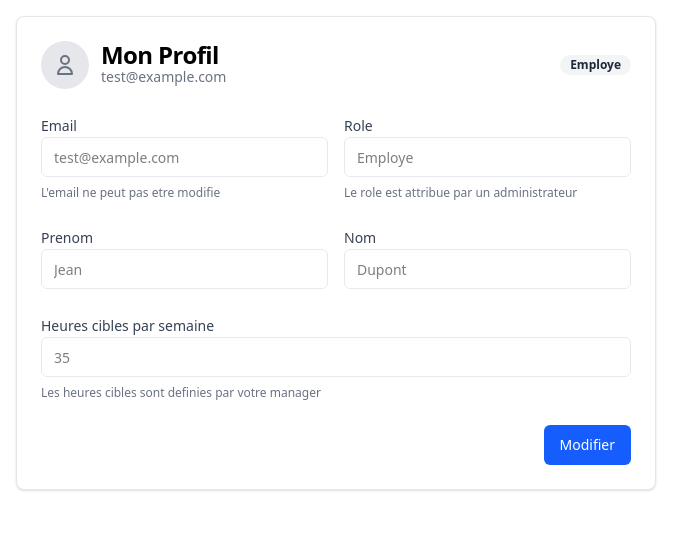
Test case: ProfilePage › Validation - AC4 › shows error when last name is empty
The image size is (673, 536).
Expected: the heading "Mon Profil" is shown, [101,43,226,67]
Click the button "Modifier" at [587, 445], box [544,425,631,465]
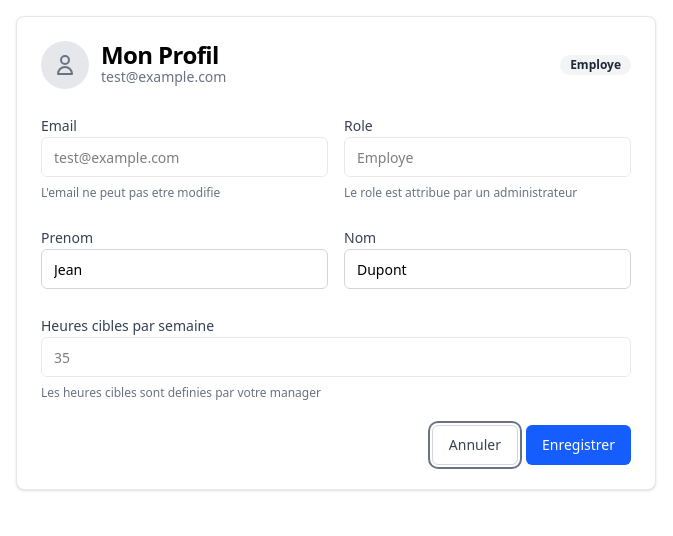
Clear the field labelled "Nom" at [488, 269], box [344,249,631,289]
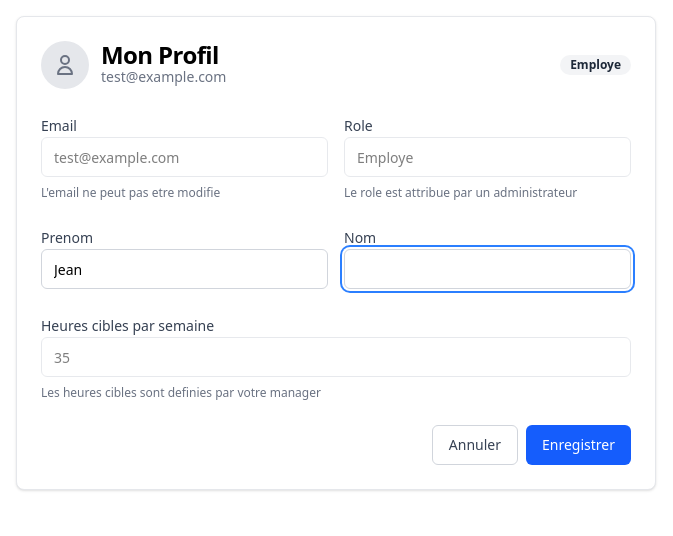
Click the button "Enregistrer" at [578, 445], box [526,425,631,465]
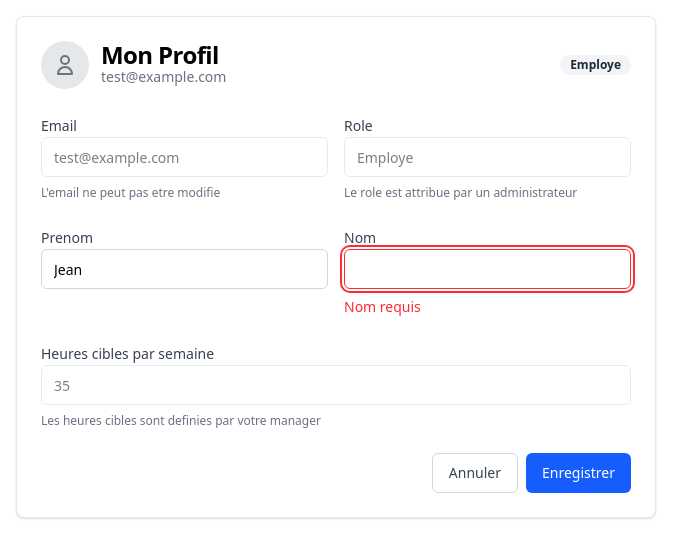
Expected: the text "Nom requis" is shown, [344,297,421,316]
